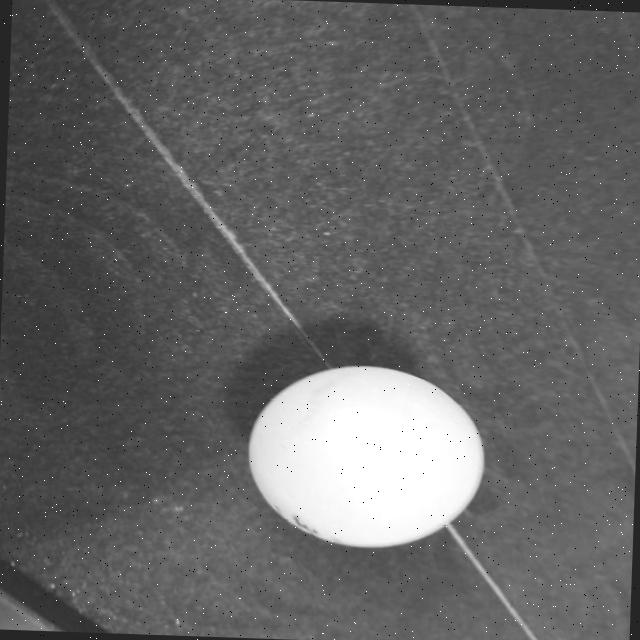ping-pong-ball: (242, 362, 486, 550)
